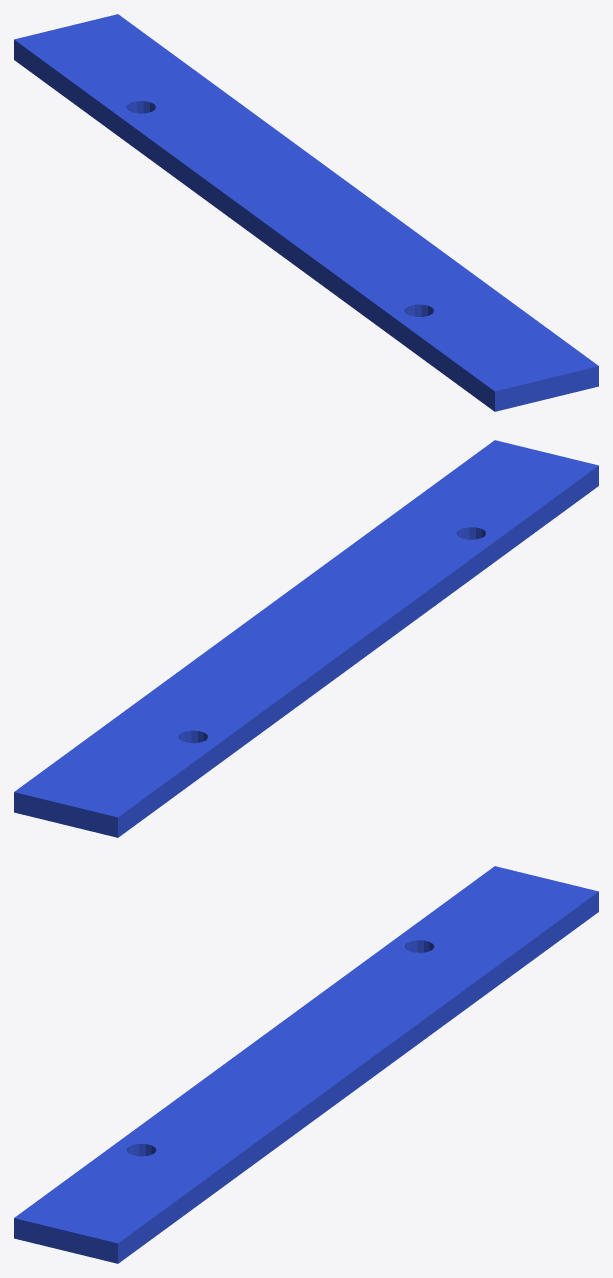
The model's file is sensor_1.dae.
The picture shows the model from 3 angles, top to bottom: view 1: azimuth 30°, elevation 25°; view 2: azimuth 150°, elevation 25°; view 3: azimuth 330°, elevation 25°; orthographic projection.
Parts seen in each view (by area): view 1: sensor_1; view 2: sensor_1; view 3: sensor_1.
Part boxes in pixels (box(x1,y1,x2,y2)): sensor_1: box(14, 14, 598, 411); sensor_1: box(14, 440, 598, 837); sensor_1: box(14, 866, 598, 1263).
Size of the model in its own units: 16 by 128 by 3.
